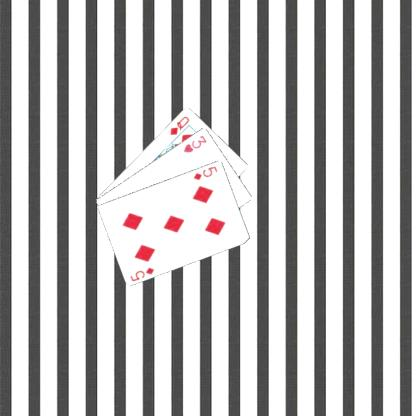3H: (181, 132, 208, 154)
5D: (127, 264, 156, 282), (191, 163, 219, 181)
QD: (167, 113, 191, 136)
